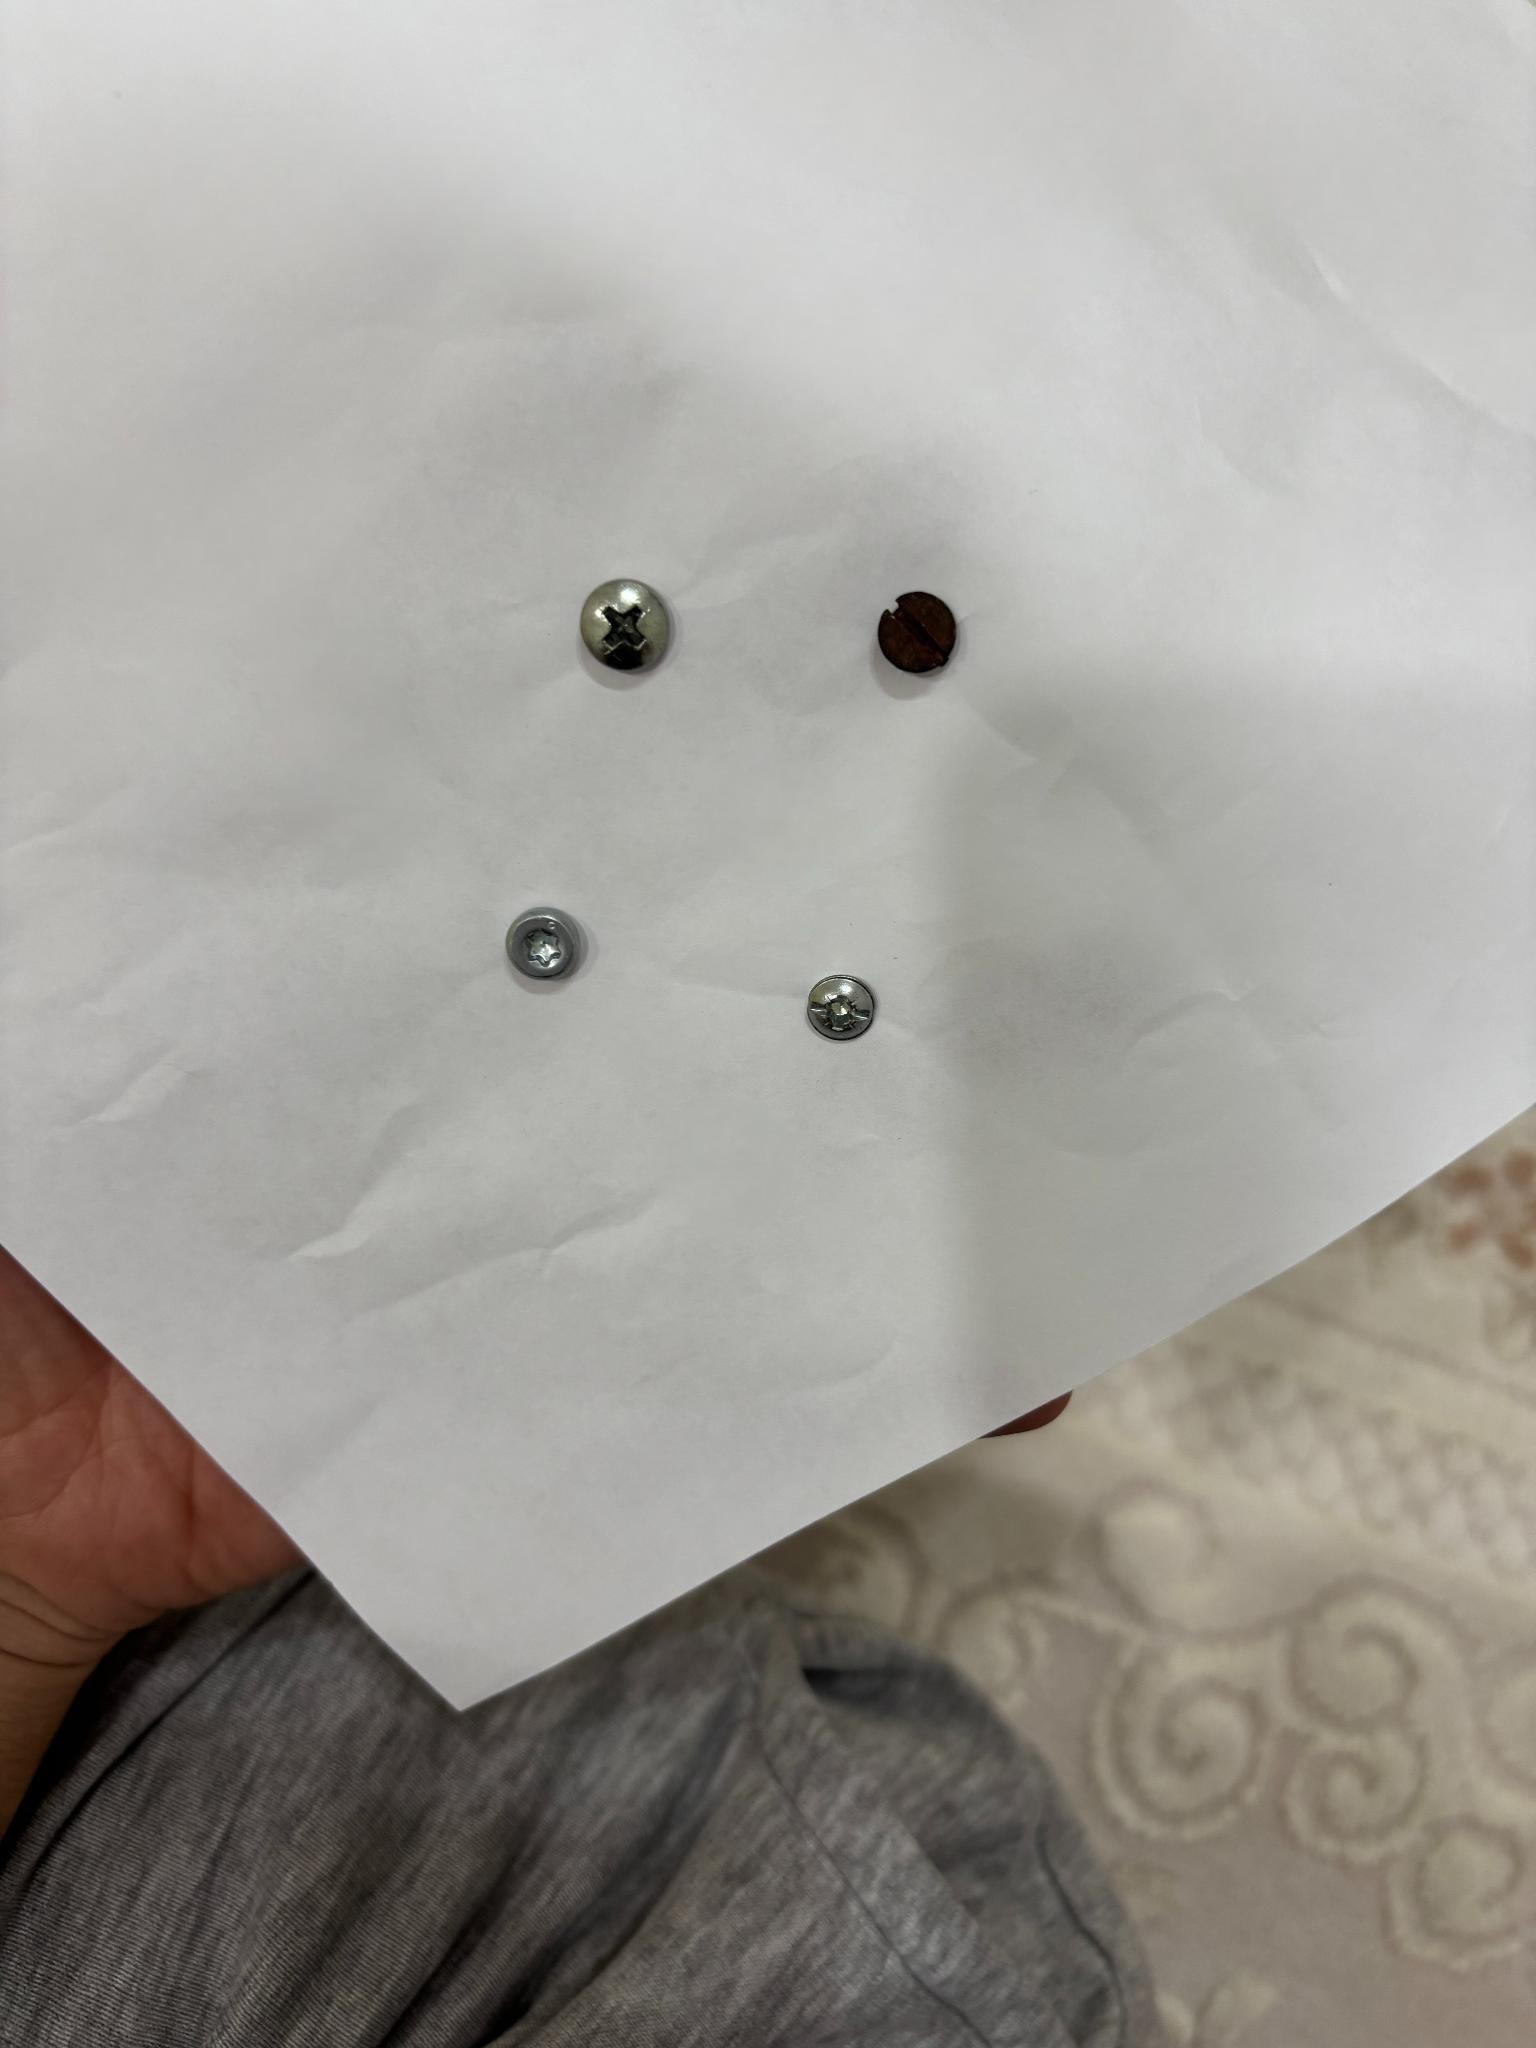PH: (580, 578, 670, 672)
PZ: (807, 976, 876, 1040)
SL: (878, 592, 957, 673)
T: (507, 914, 577, 978)
